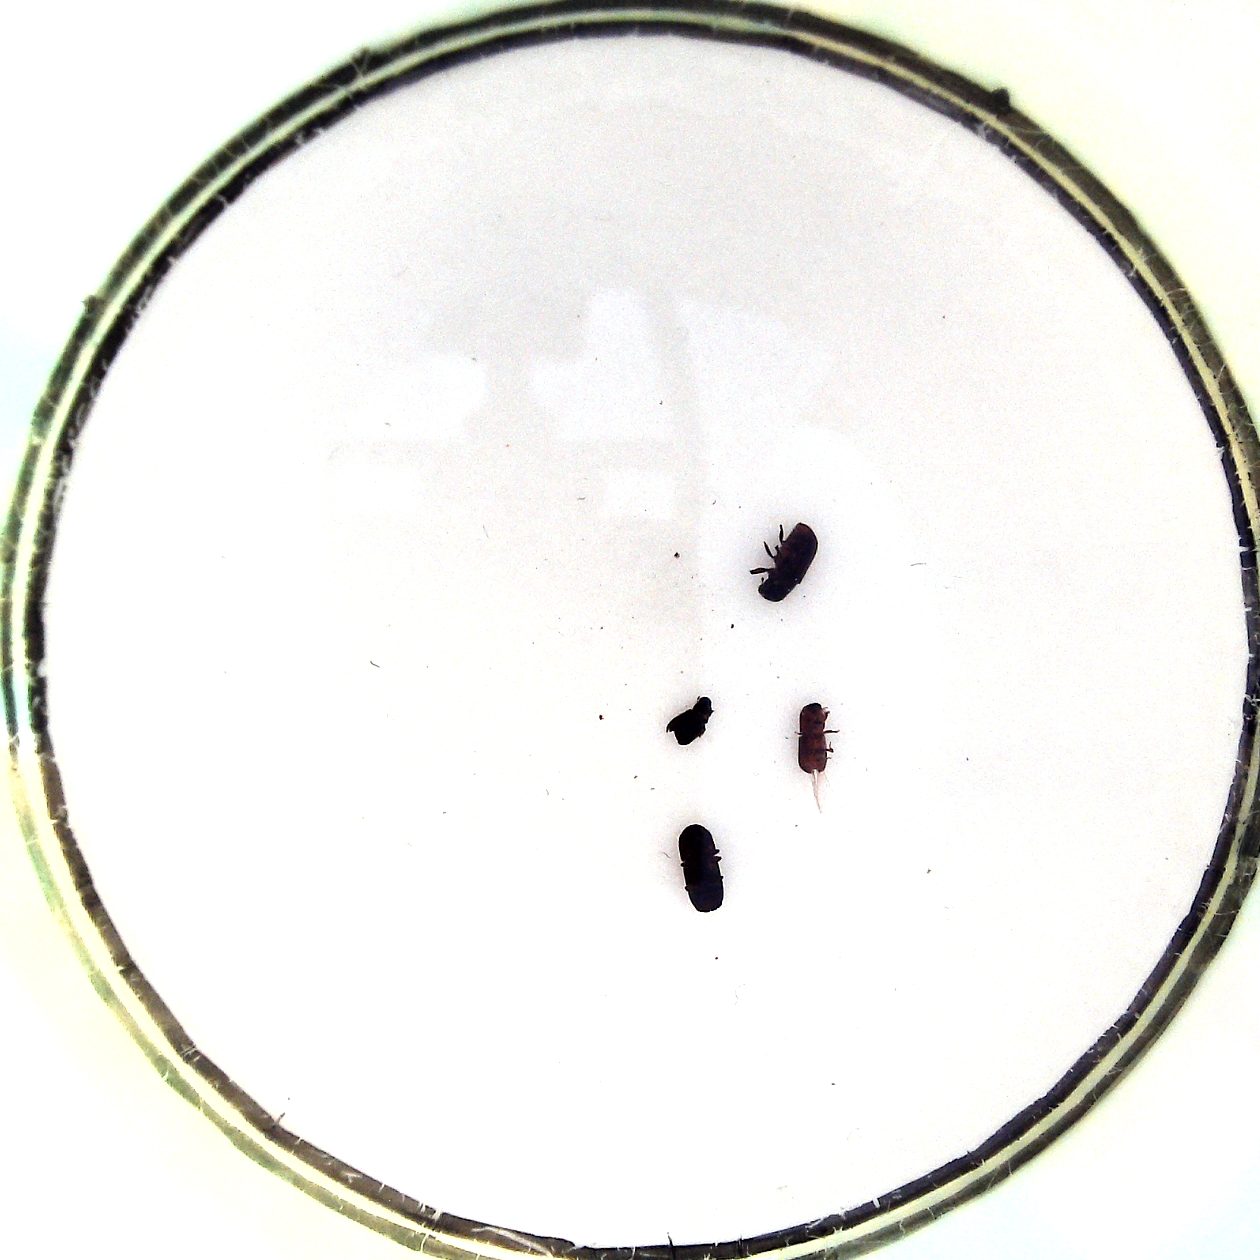Linnaeus: (672, 824, 733, 917)
acuminatus: (793, 697, 834, 779)
armandi: (747, 522, 819, 607)
coleoptera: (663, 696, 717, 743)
